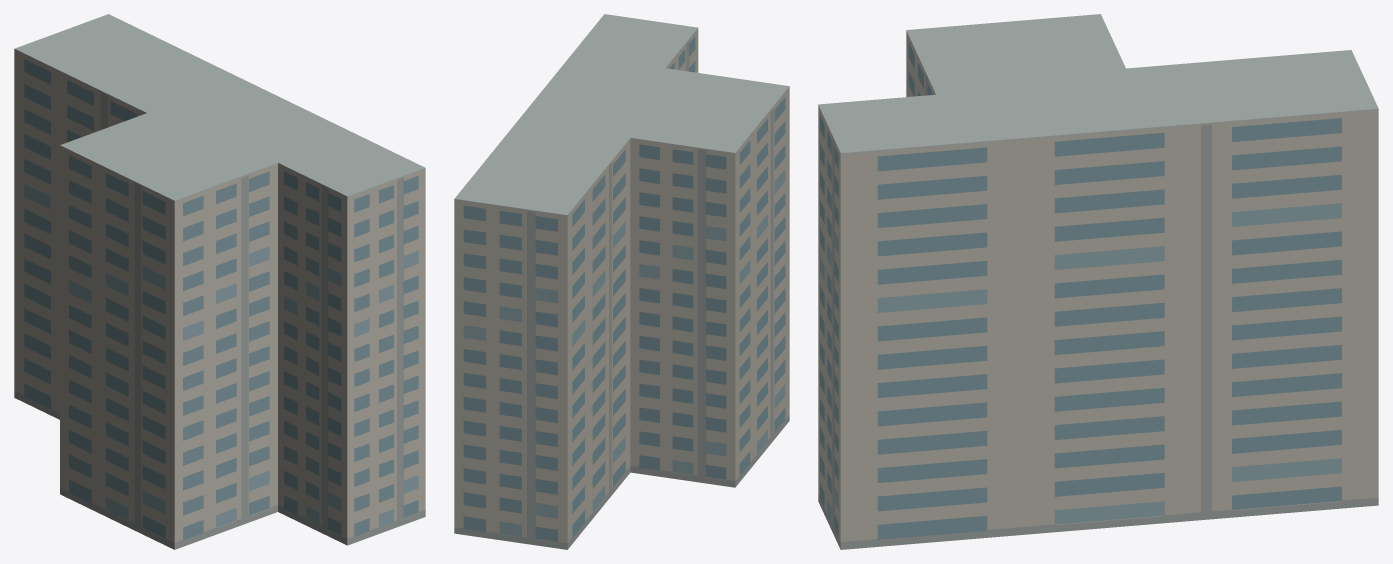
The model's file is residential-7ce6291e-f7f2-4238-b34e-24d126228ccb.glb.
3 views of the same model, side by side, from view 1: azimuth 30°, elevation 25°; view 2: azimuth 150°, elevation 25°; view 3: azimuth 270°, elevation 25° (orthographic). The views are drawn at different scales.
Parts seen in each view (by area): view 1: residential-7ce6291e-f7f2-4238-b34e-24d126228ccb.tmp; view 2: residential-7ce6291e-f7f2-4238-b34e-24d126228ccb.tmp; view 3: residential-7ce6291e-f7f2-4238-b34e-24d126228ccb.tmp.
Part boxes in pixels (box(x1,y1,x2,y2)): residential-7ce6291e-f7f2-4238-b34e-24d126228ccb.tmp: box(14, 14, 425, 549); residential-7ce6291e-f7f2-4238-b34e-24d126228ccb.tmp: box(454, 14, 789, 549); residential-7ce6291e-f7f2-4238-b34e-24d126228ccb.tmp: box(818, 14, 1378, 549).
Bounding box in the file's own units: 35.37 × 47 × 60.19.
